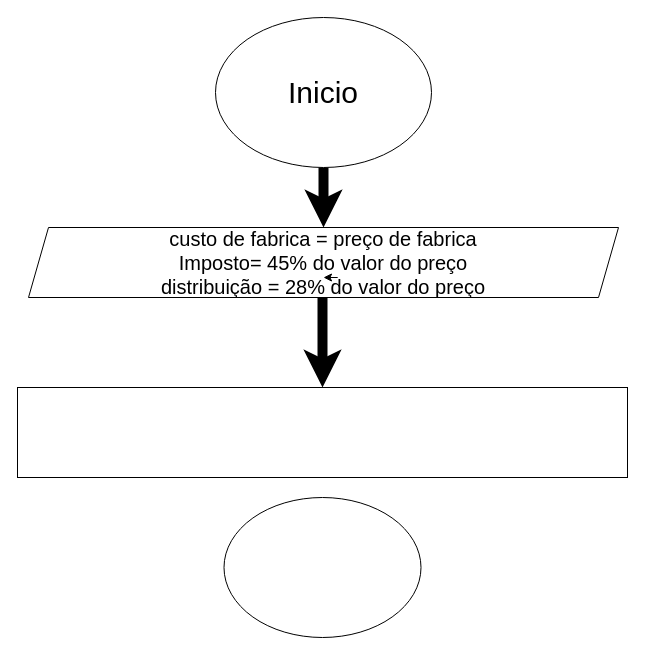
This 645x655 diagram has some shape labels left out. Each missing label, with the box of its shape:
Fim: (223, 496, 421, 638)
Para_o_consumidor = (custo_de_fabrica + imposto + distribuição): (16, 386, 628, 478)
